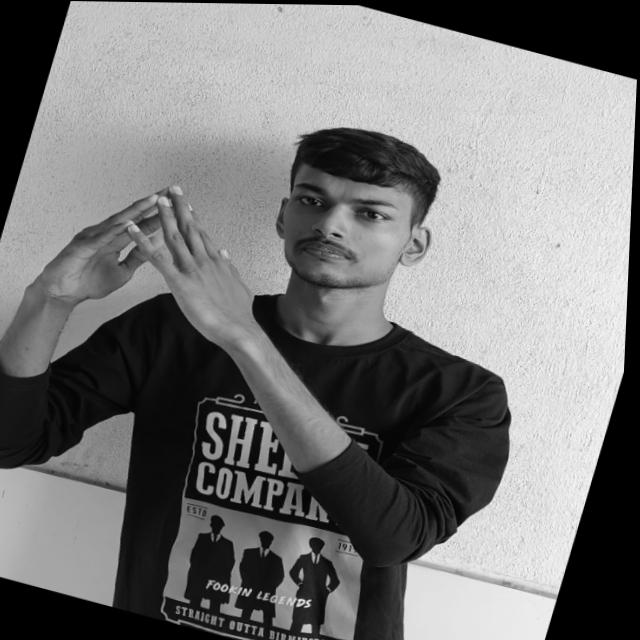Home: (31, 155, 281, 361)
